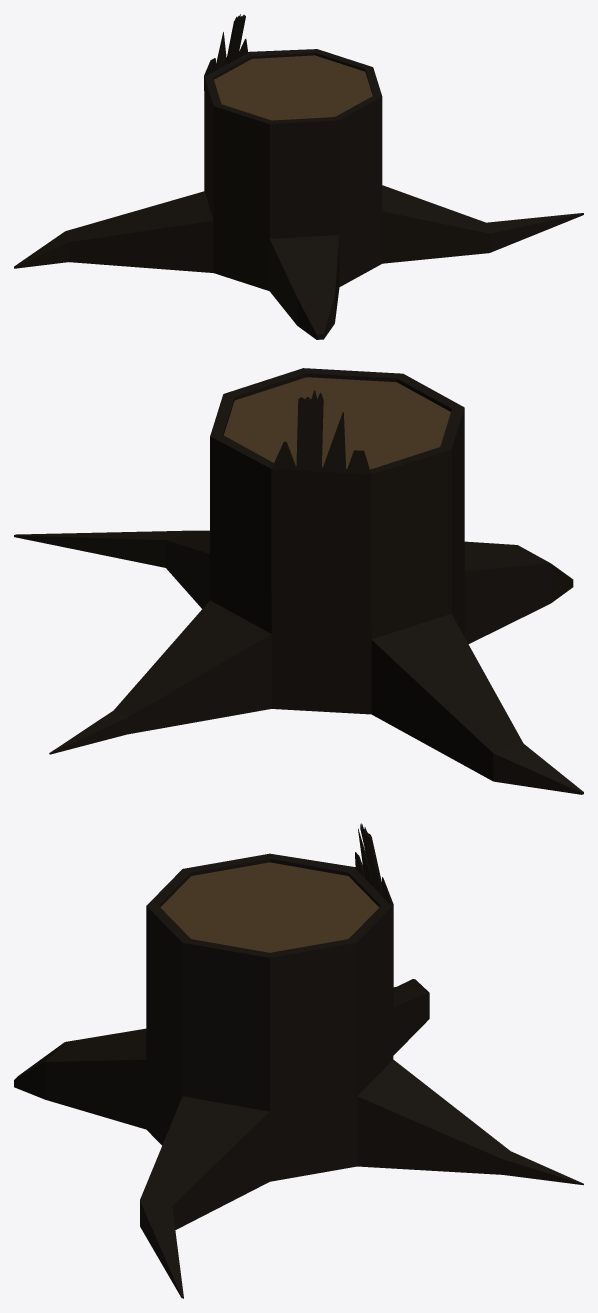
The model's file is TreeStumpBurnedSplinteredSide).fbx.
3 renders of one model, top to bottom at view 1: azimuth 30°, elevation 25°; view 2: azimuth 150°, elevation 25°; view 3: azimuth 270°, elevation 25°, orthographic. The views are drawn at different scales.
Visible parts, largest first — view 1: Cylinder, Cylinder.001; view 2: Cylinder, Cylinder.001; view 3: Cylinder, Cylinder.001.
Part boxes in pixels (box(x1,y1,x2,y2)): Cylinder: box(14, 14, 583, 339); Cylinder.001: box(214, 55, 372, 120); Cylinder: box(14, 368, 583, 794); Cylinder.001: box(224, 377, 450, 469); Cylinder: box(14, 823, 583, 1298); Cylinder.001: box(160, 862, 379, 952).
Size of the model in its own units: 607 by 262 by 462.
